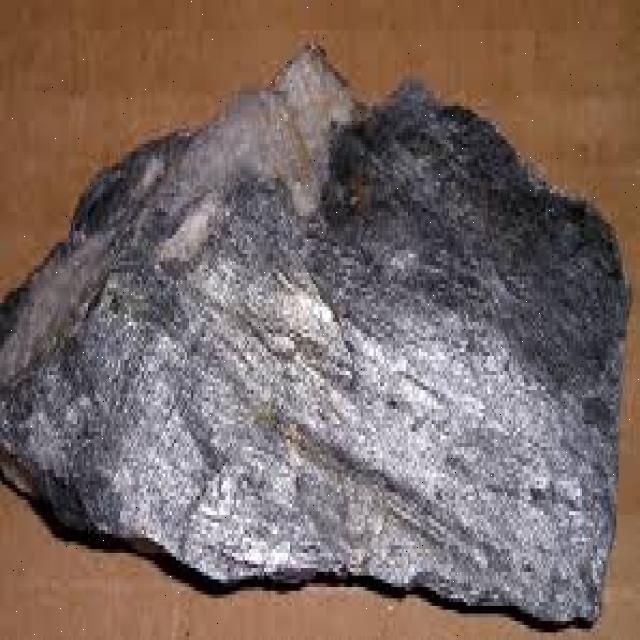Metamorphic: (2, 65, 623, 618)
